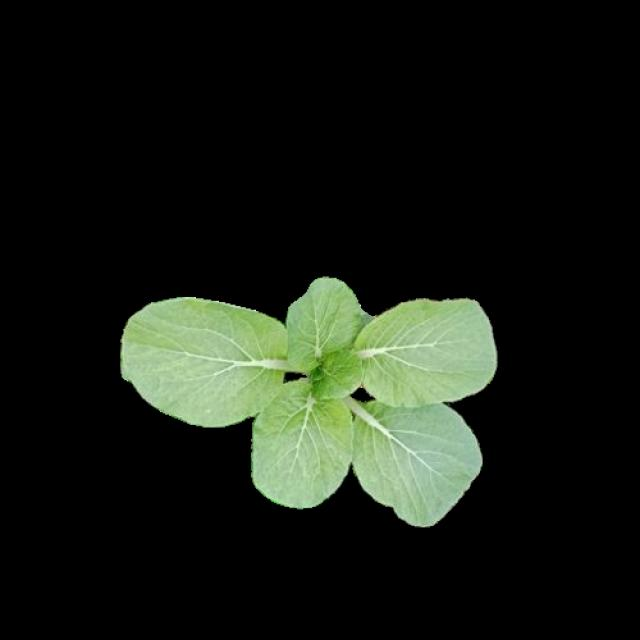healthy: (118, 276, 493, 522)
not-mature: (120, 279, 496, 525)
